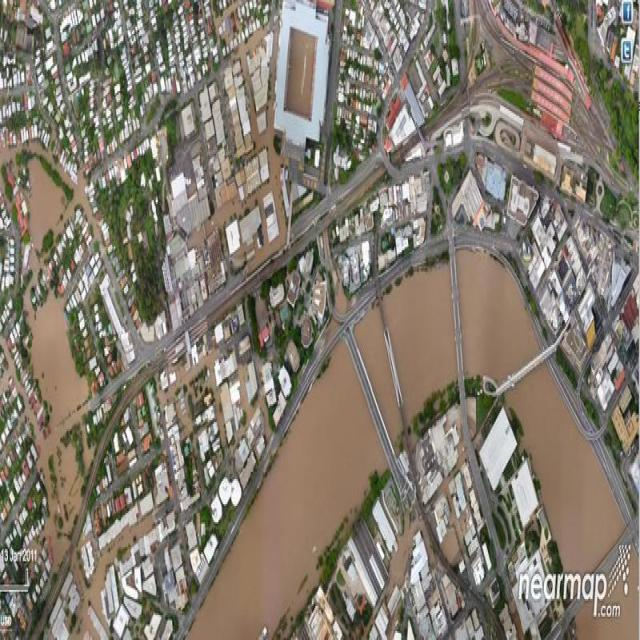flooded_areas: (36, 345, 286, 638), (322, 359, 510, 633), (2, 104, 103, 540), (207, 0, 328, 282)
